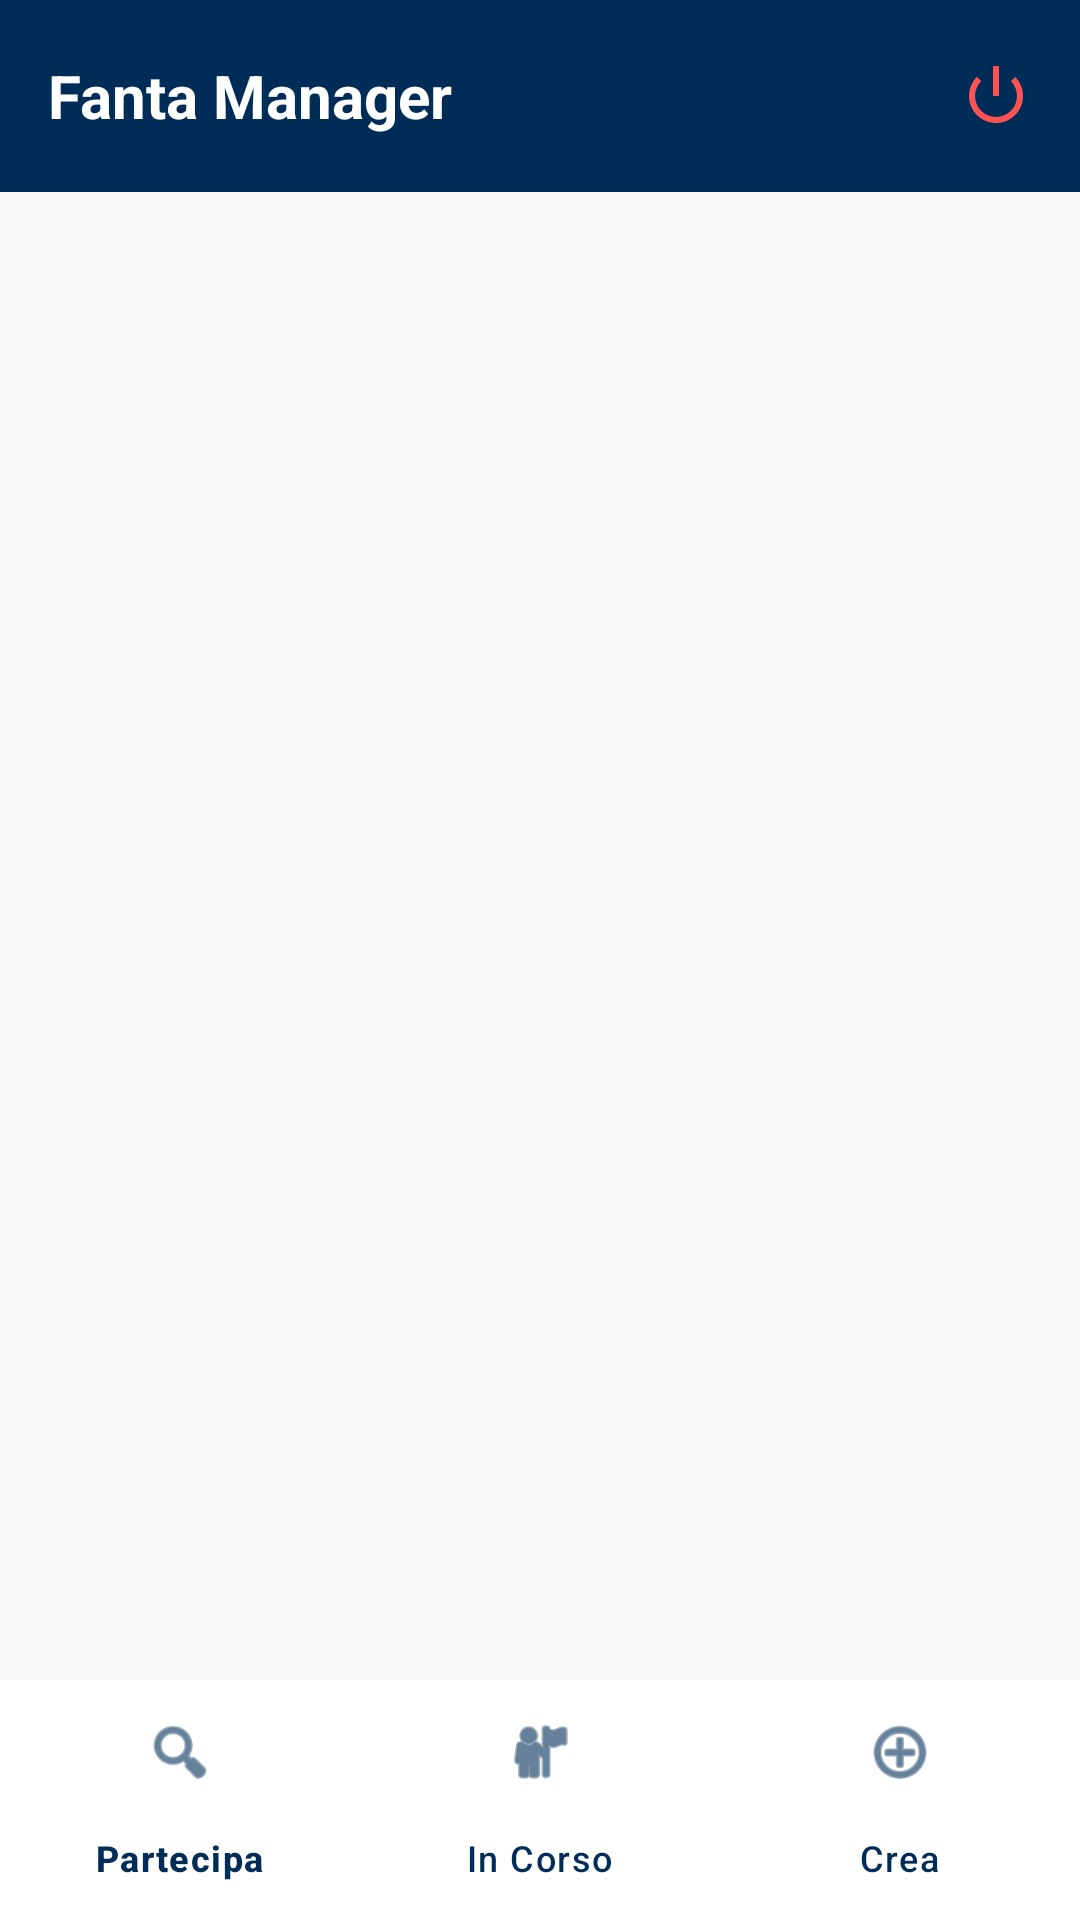

Named icons in this screenshot (1080w x 1920h) and their centers, (x,y):
lock power off: (996,94)
